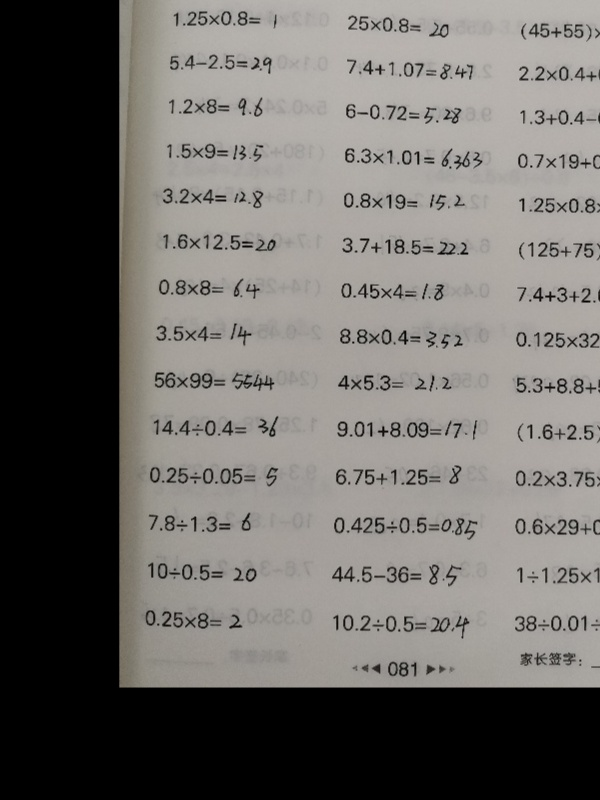equation: (329, 511, 480, 541), (329, 612, 472, 642), (329, 561, 465, 591), (340, 145, 485, 173), (334, 417, 481, 444), (331, 463, 464, 490), (150, 414, 282, 441), (145, 464, 281, 490), (335, 326, 466, 351), (343, 58, 476, 82), (150, 368, 277, 393), (338, 236, 471, 259), (153, 317, 254, 347), (339, 190, 468, 213), (341, 102, 464, 126), (154, 274, 263, 301), (159, 230, 278, 254), (145, 510, 254, 536), (165, 50, 274, 76), (159, 185, 266, 211), (144, 561, 259, 585), (334, 372, 454, 395), (165, 95, 267, 122), (336, 280, 447, 304), (169, 7, 280, 31), (344, 14, 453, 38), (511, 466, 600, 495), (513, 563, 600, 592), (513, 420, 600, 449), (510, 515, 600, 543), (141, 608, 245, 632), (163, 141, 266, 165), (510, 609, 600, 636), (514, 149, 600, 177), (512, 373, 600, 400), (513, 282, 600, 309), (512, 329, 600, 354), (516, 105, 600, 131), (516, 20, 600, 46), (514, 239, 600, 264), (515, 193, 600, 218), (515, 63, 600, 86), (517, 0, 600, 7)
